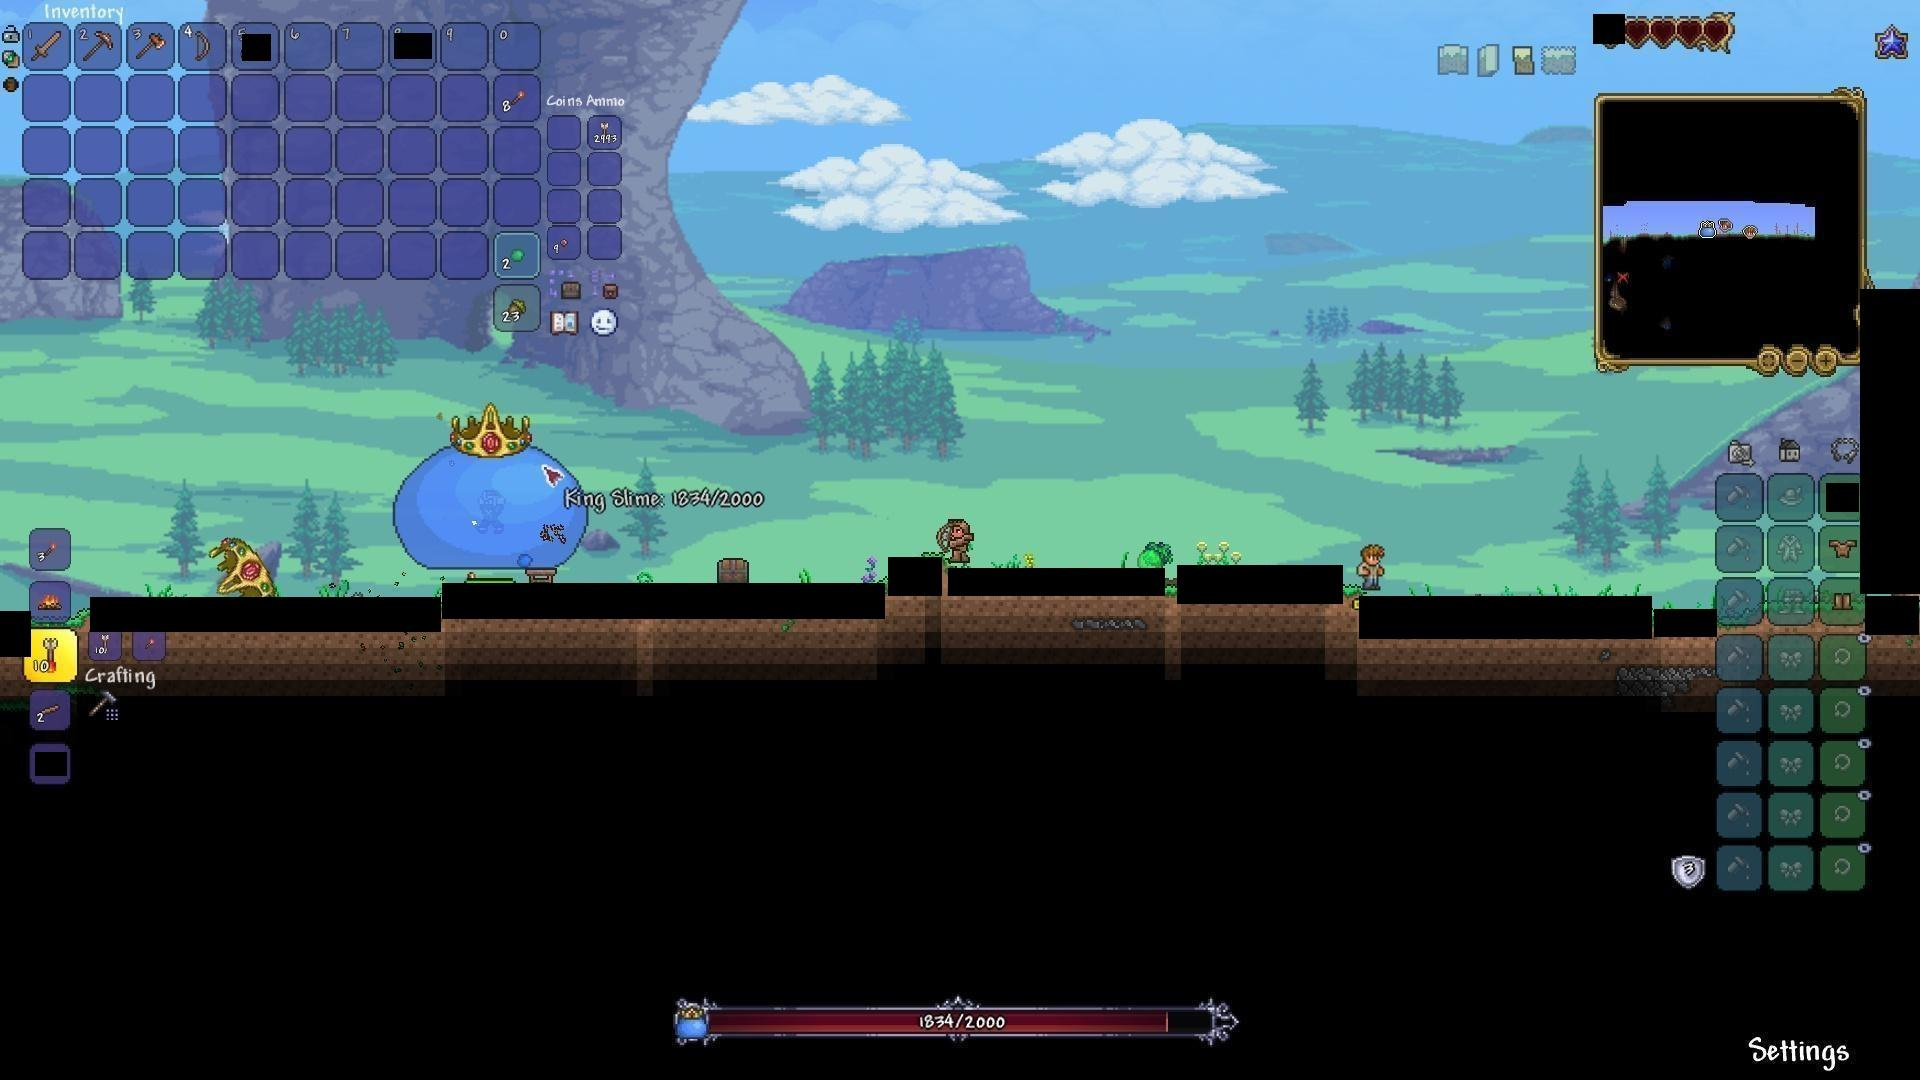breastplate: (1829, 537, 1859, 556)
legs: (1832, 585, 1855, 615)
slime: (1137, 545, 1162, 574)
workbench: (524, 564, 560, 589)
